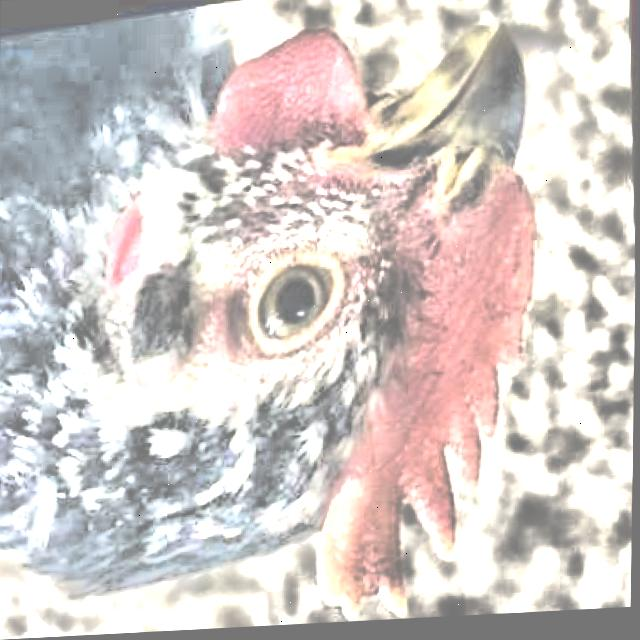Healthy: (214, 244, 357, 373)
